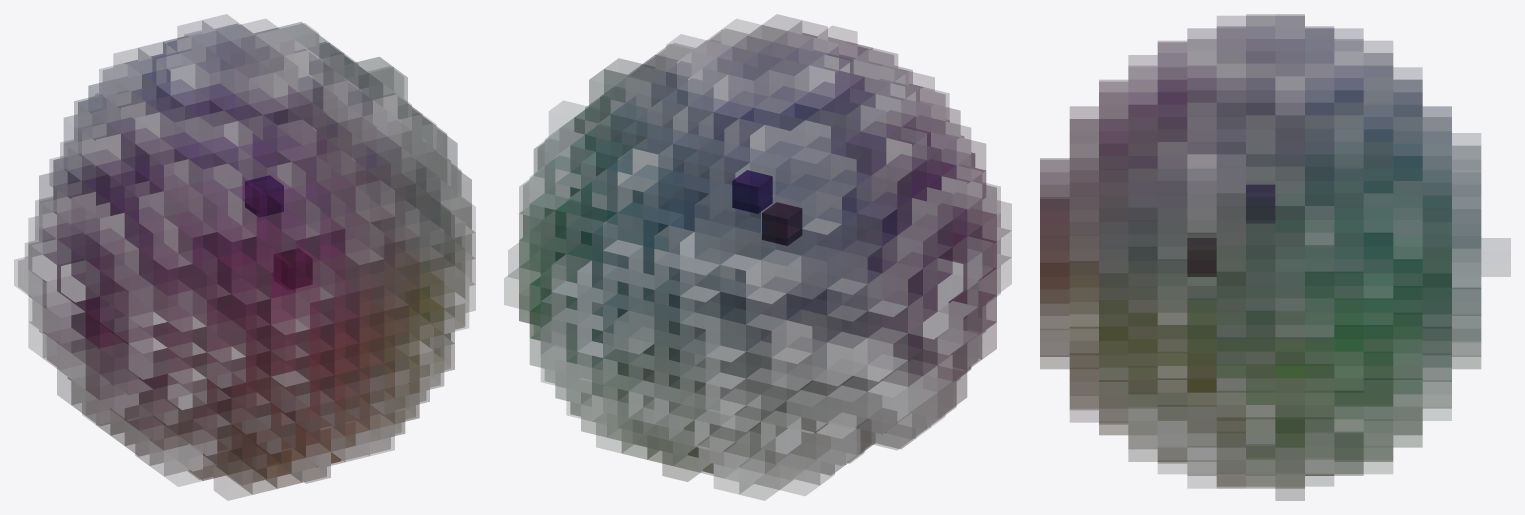
File: iter_30.obj
The picture shows the model from 3 angles, left to right: view 1: azimuth 30°, elevation 25°; view 2: azimuth 150°, elevation 25°; view 3: azimuth 270°, elevation 25°; orthographic projection. The views are drawn at different scales.
Visible parts, largest first — view 1: iter_30; view 2: iter_30; view 3: iter_30.
Boxes of the visible parts, x1,y1,x2,y2 form: iter_30: [14, 14, 475, 500]; iter_30: [504, 14, 1011, 500]; iter_30: [1040, 14, 1510, 500].
Size of the model in its own units: 1.6 by 1.5 by 1.6.
